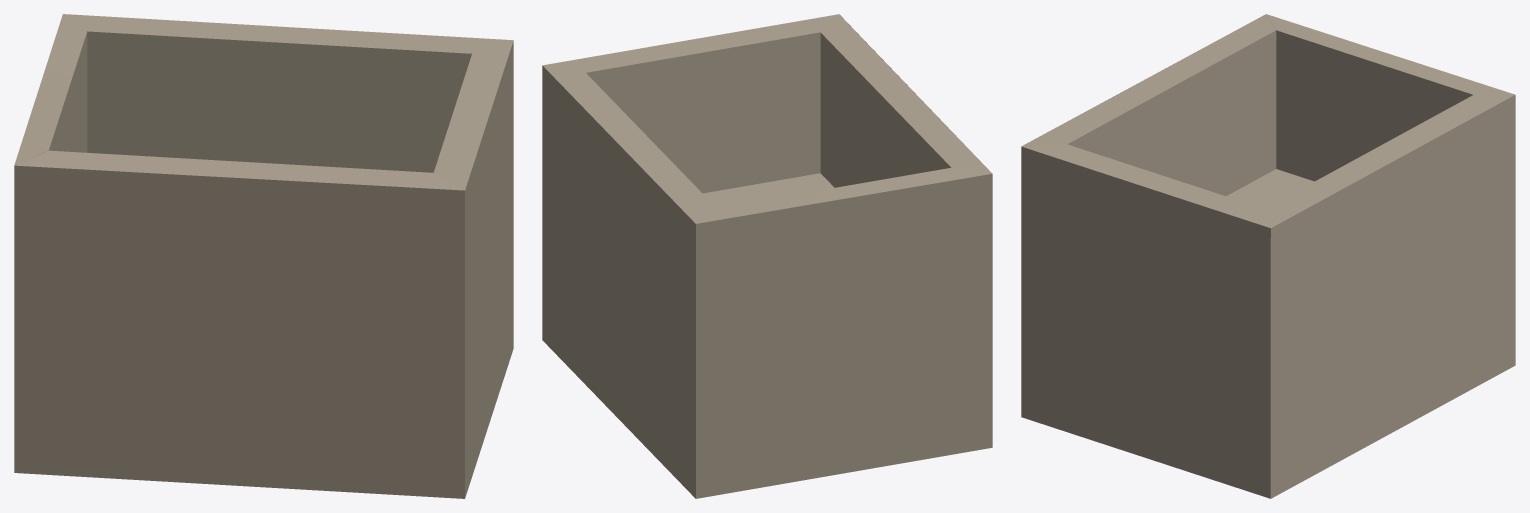
Rendered from MSH_QuestObject_box_03.fbx.
3 renders of one model, left to right at view 1: azimuth 30°, elevation 25°; view 2: azimuth 150°, elevation 25°; view 3: azimuth 270°, elevation 25°, orthographic. The views are drawn at different scales.
Parts seen in each view (by area): view 1: MSH_QuestObject_box_03; view 2: MSH_QuestObject_box_03; view 3: MSH_QuestObject_box_03.
Boxes of the visible parts, x1,y1,x2,y2 form: MSH_QuestObject_box_03: [14, 14, 513, 498]; MSH_QuestObject_box_03: [542, 14, 992, 498]; MSH_QuestObject_box_03: [1021, 14, 1515, 498].
Size of the model in its own units: 0.7894 by 0.4633 by 0.7662.
